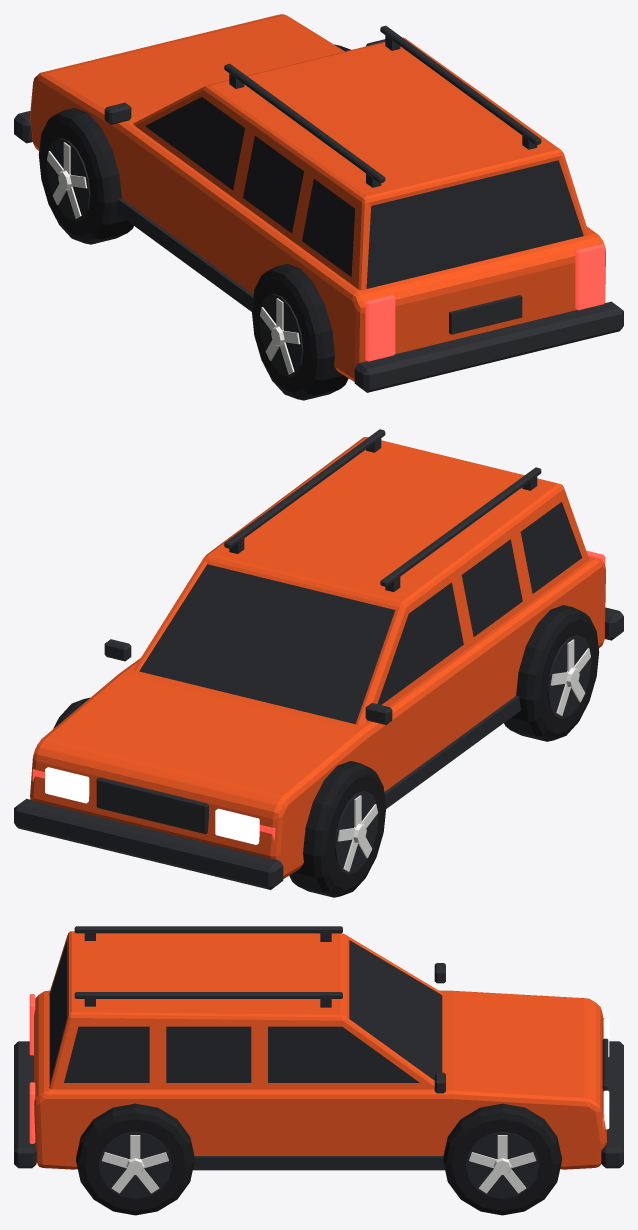
File: kutu.glb
3 renders of one model, top to bottom at view 1: azimuth 30°, elevation 25°; view 2: azimuth 150°, elevation 25°; view 3: azimuth 270°, elevation 25°, orthographic. The views are drawn at different scales.
Parts seen in each view (by area): view 1: body, wheel_RL, wheel_FL; view 2: body, wheel_FL, wheel_RL; view 3: body, wheel_FR, wheel_RR.
Part boxes in pixels (left/top/right/bottom): body: left=14, top=14, right=623, bottom=392; wheel_RL: left=251, top=263, right=348, bottom=400; wheel_FL: left=38, top=108, right=133, bottom=244; body: left=14, top=429, right=623, bottom=889; wheel_FL: left=289, top=761, right=386, bottom=897; wheel_RL: left=504, top=605, right=599, bottom=741; body: left=14, top=926, right=623, bottom=1170; wheel_FR: left=443, top=1103, right=561, bottom=1215; wheel_RR: left=76, top=1103, right=194, bottom=1215.
Size of the model in its own units: 2.11 by 1.55 by 4.32.
